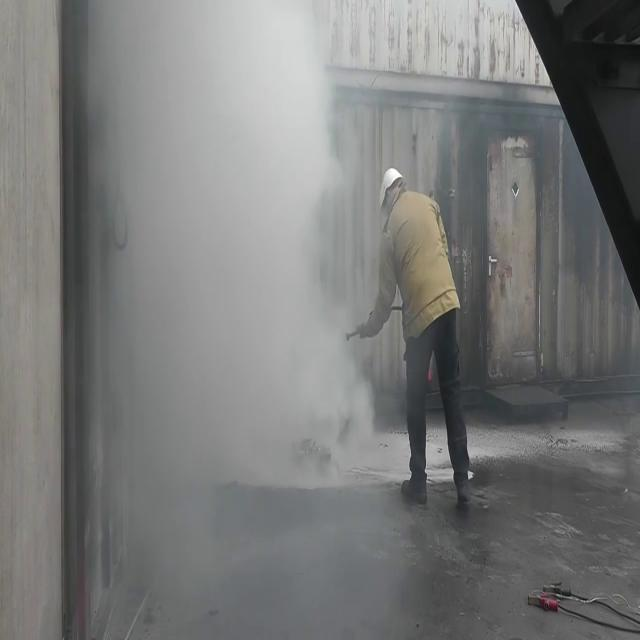Smoke: (51, 2, 421, 640)
